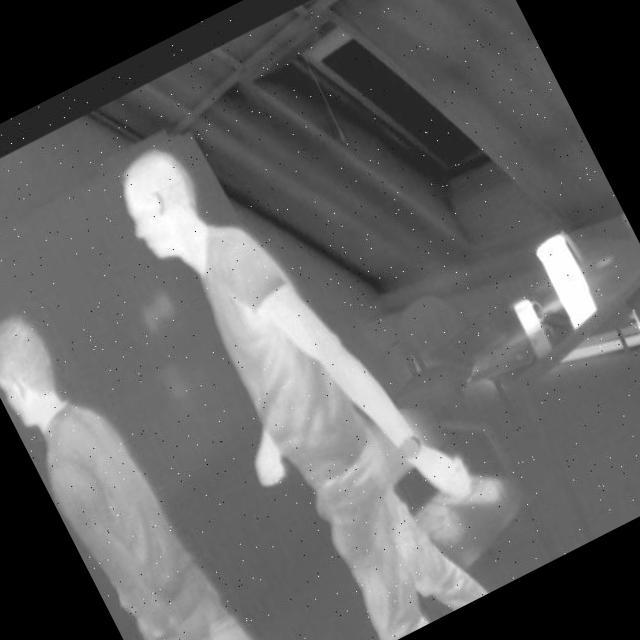person: (73, 54, 522, 640), (0, 273, 299, 640)
